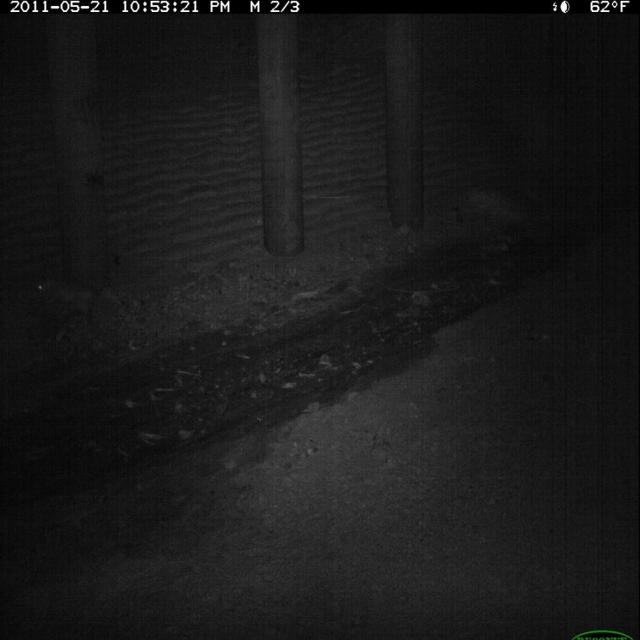bobcat: (34, 271, 111, 344)
